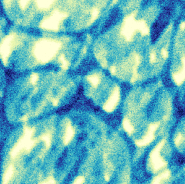hole_filled: (0, 98, 138, 184), (89, 5, 174, 84), (119, 75, 176, 149), (1, 25, 88, 72), (1, 68, 81, 116)
